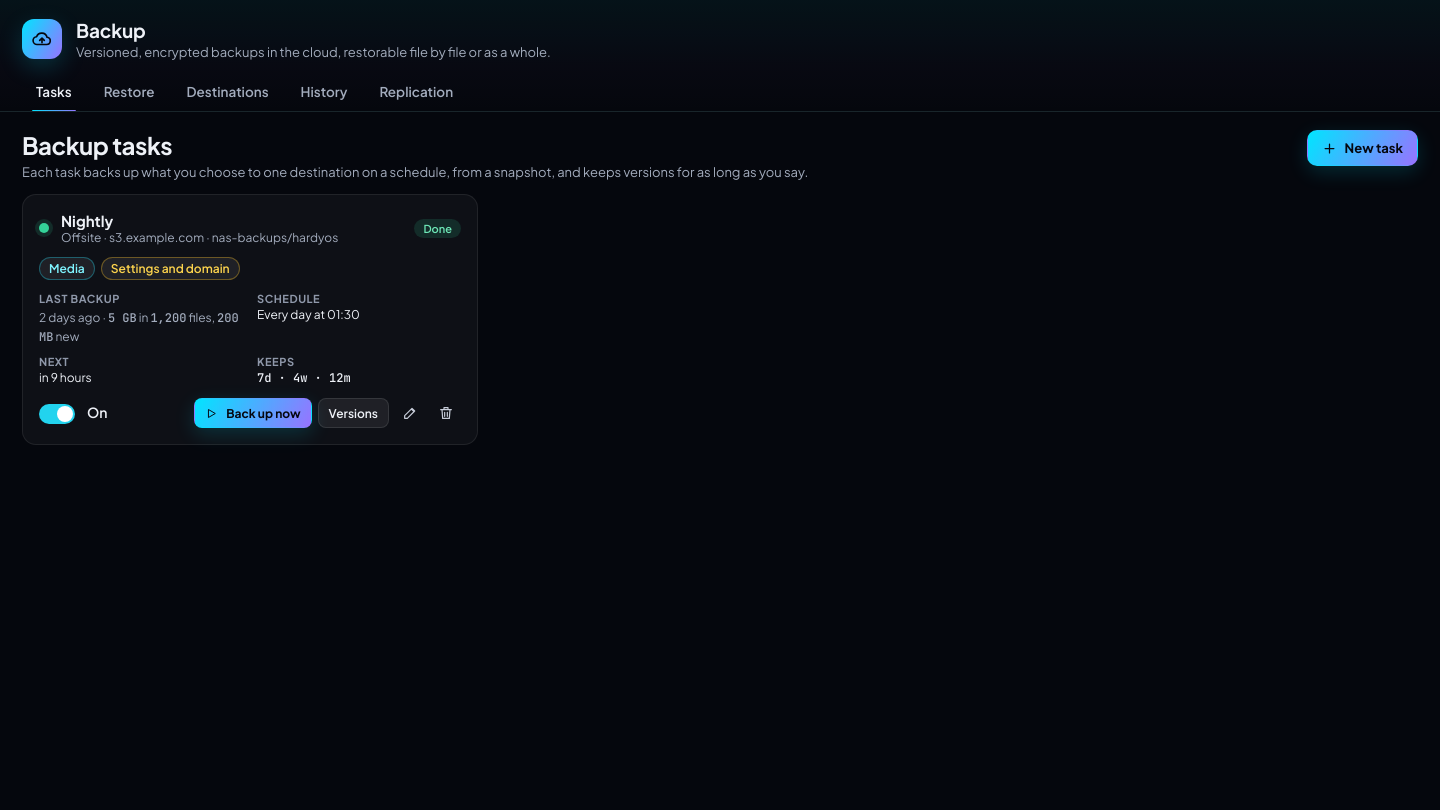
Backup app › lists tasks with their last run and switches tabs
Expected: the element "Nightly" is shown, [22, 194, 478, 445]
Expected: the list item "Media" is shown, [39, 257, 95, 280]
Click the tab "History" at (324, 92), box [287, 74, 362, 111]
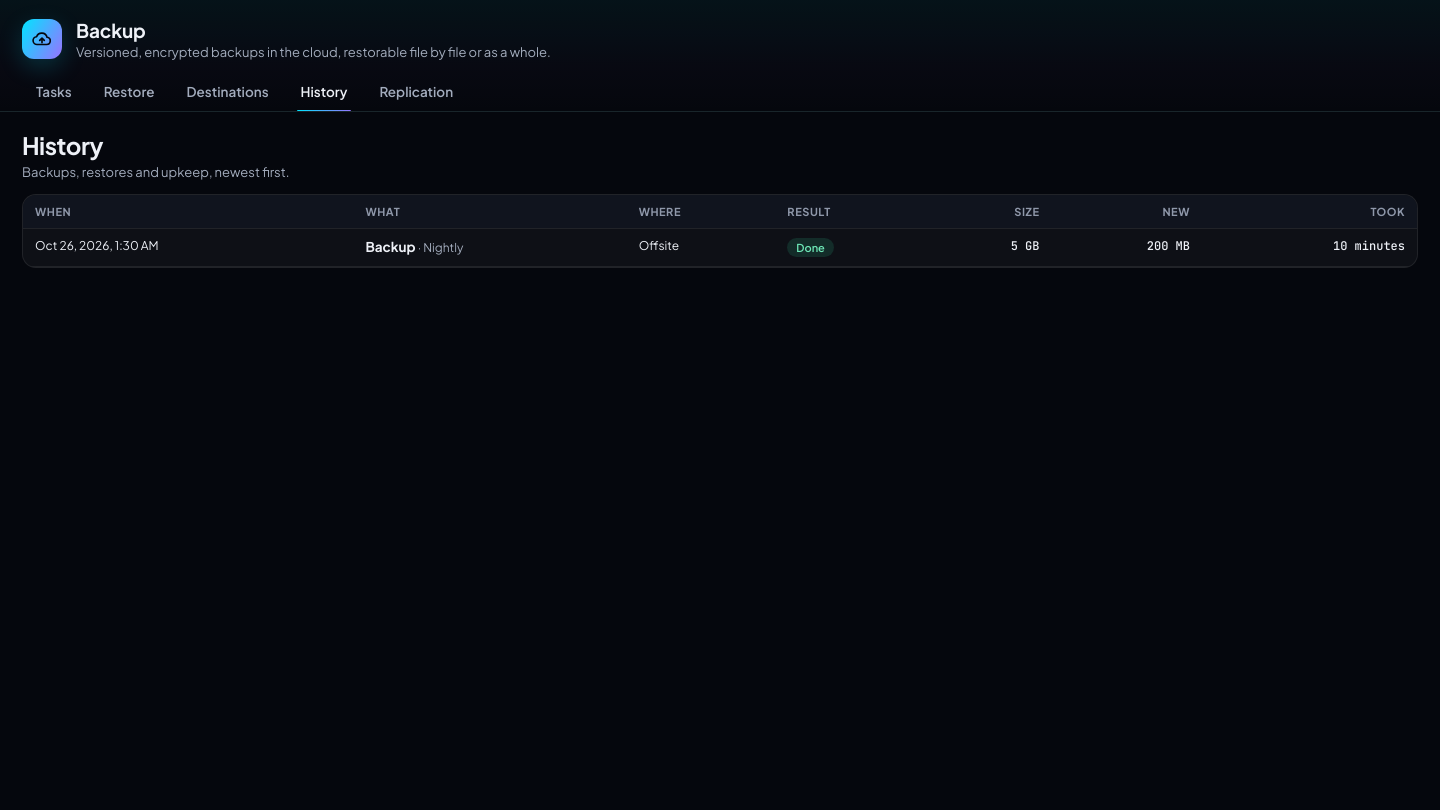
Now the table is shown, box [23, 195, 1417, 267]
Click the tab "Destinations" at (228, 92), box [173, 74, 283, 111]
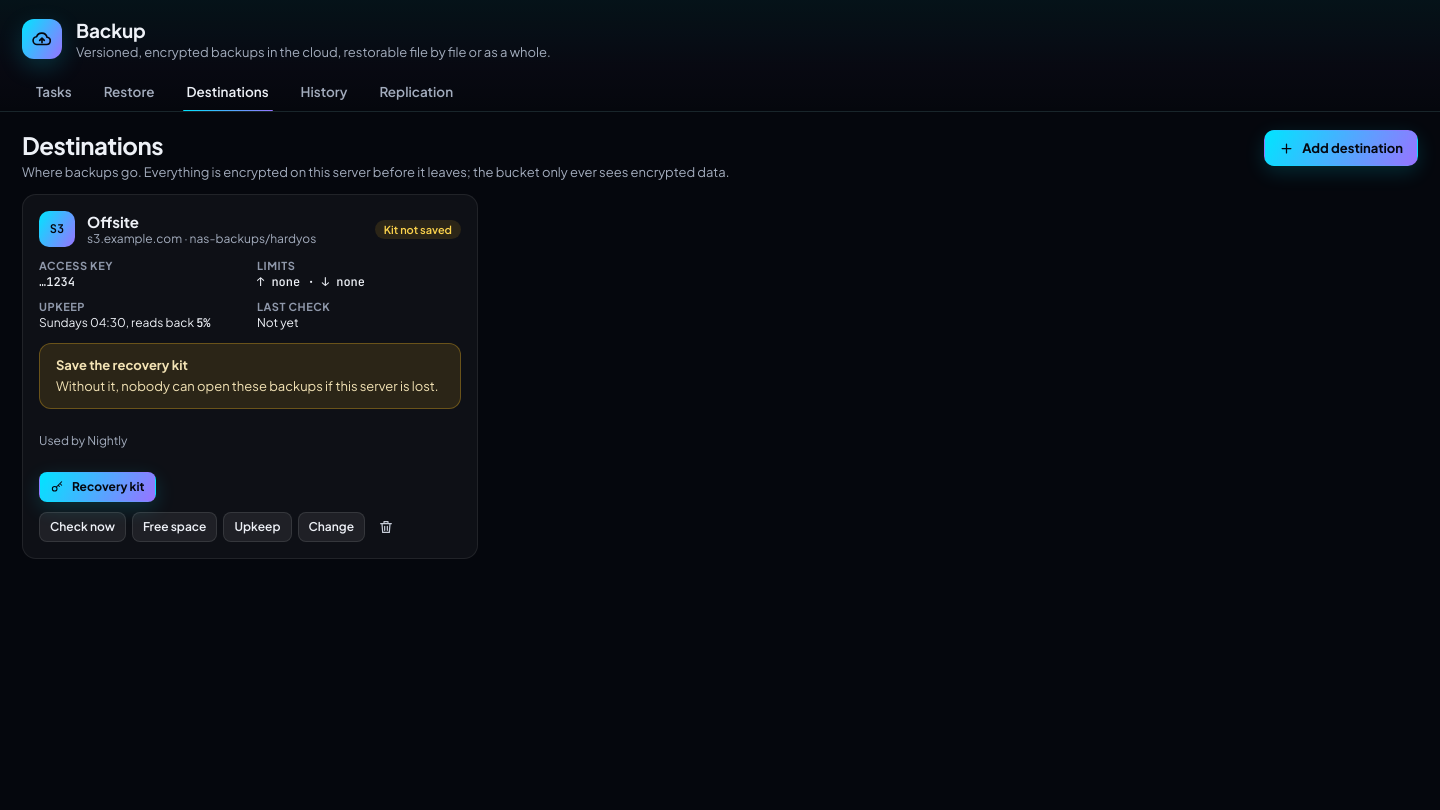
Now the text "Kit not saved" is shown, box [375, 220, 461, 238]
